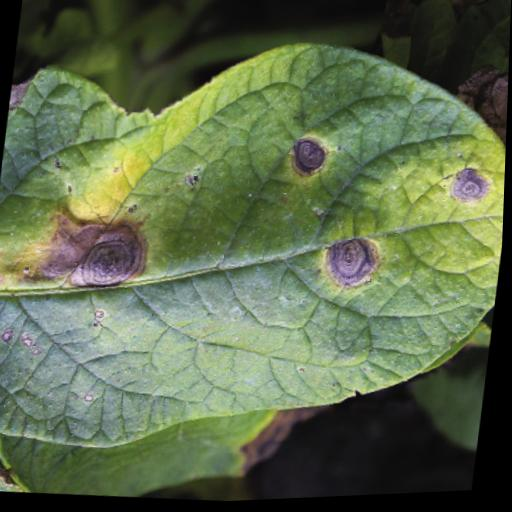Early Blight: (0, 13, 511, 486)
